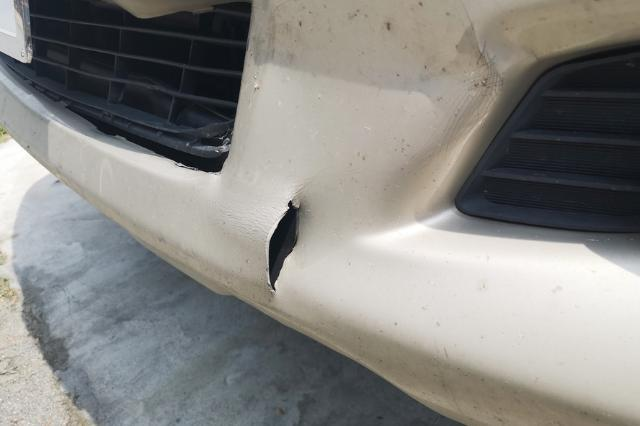Bumper: (18, 0, 512, 307)
